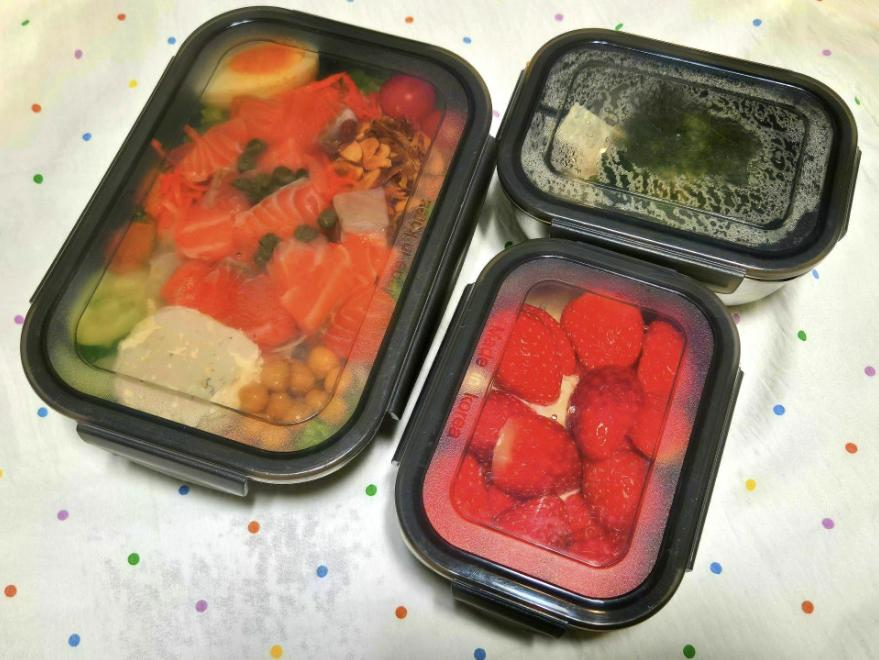Lunch Box: (21, 7, 495, 495), (396, 239, 741, 635), (497, 29, 860, 305)
